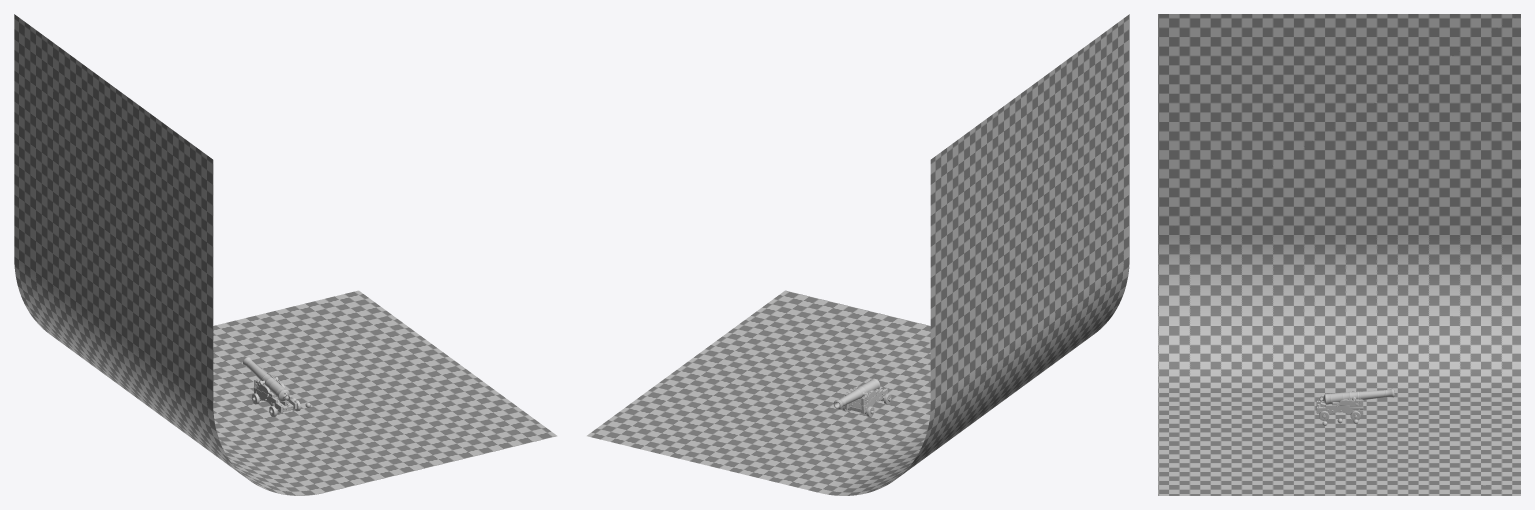
Rendered from Cannon.gltf.
3 views of the same model, side by side, from view 1: azimuth 30°, elevation 25°; view 2: azimuth 150°, elevation 25°; view 3: azimuth 270°, elevation 25° (orthographic). The views are drawn at different scales.
Visible parts, largest first — view 1: Plane, cannon_01_frame, cannon_01_barrel; view 2: Plane, cannon_01_frame; view 3: Plane, cannon_01_barrel, cannon_01_frame.
Part boxes in pixels (box(x1,y1,x2,y2)): Plane: box(14, 14, 556, 495); cannon_01_frame: box(252, 375, 297, 414); cannon_01_barrel: box(243, 357, 289, 401); Plane: box(587, 14, 1129, 495); cannon_01_frame: box(844, 386, 891, 414); Plane: box(1158, 14, 1520, 495); cannon_01_barrel: box(1319, 388, 1394, 404); cannon_01_frame: box(1316, 390, 1363, 418).
Bounding box in the file's own units: 20 × 20 × 20.
